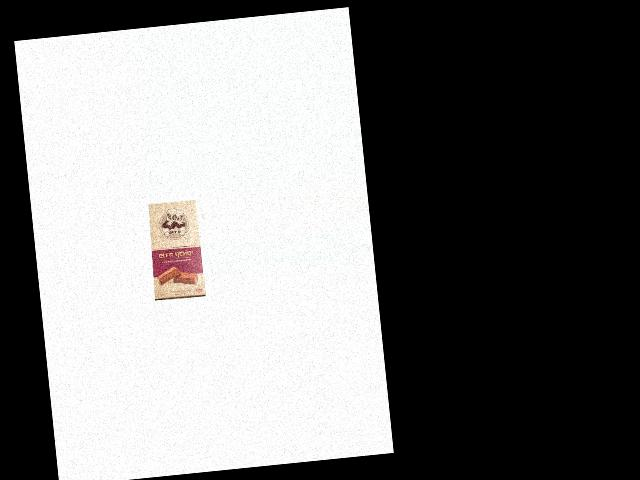chocolate: (143, 199, 204, 301)
